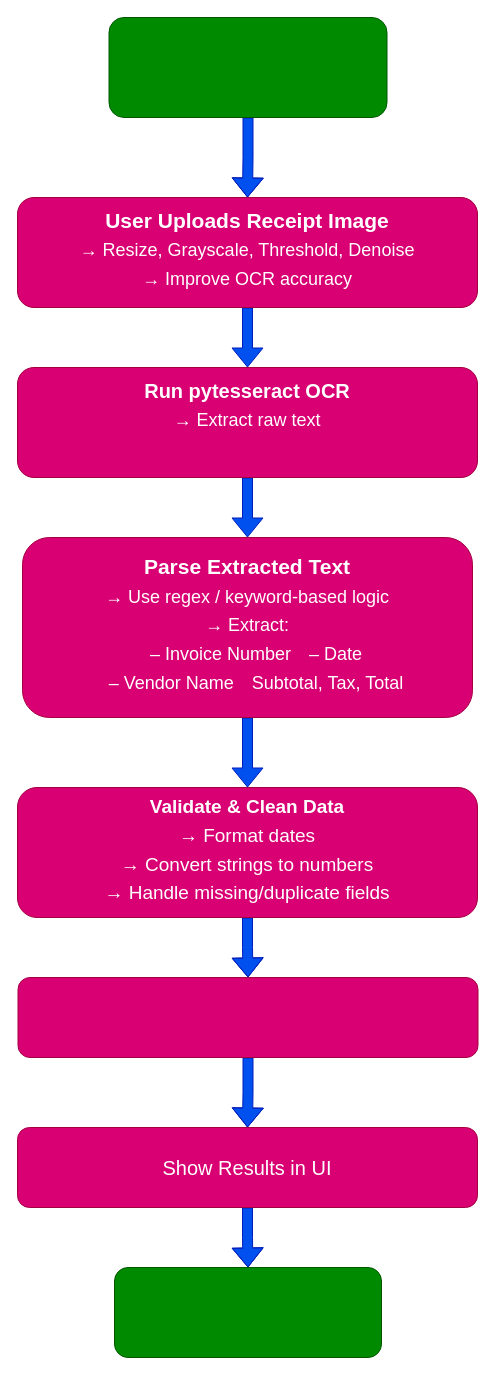
The diagram is 496 pixels wide and 1375 high, and some of its shapes have lost their labels. The centre of each missing label's shape, as x and y in pixels:
"End" goes at (x=248, y=1312).
"Start" goes at (x=247, y=67).
"Store Data in Database (e.g., SQLite) → Structured JSON / SQL insert" goes at (x=247, y=1017).
